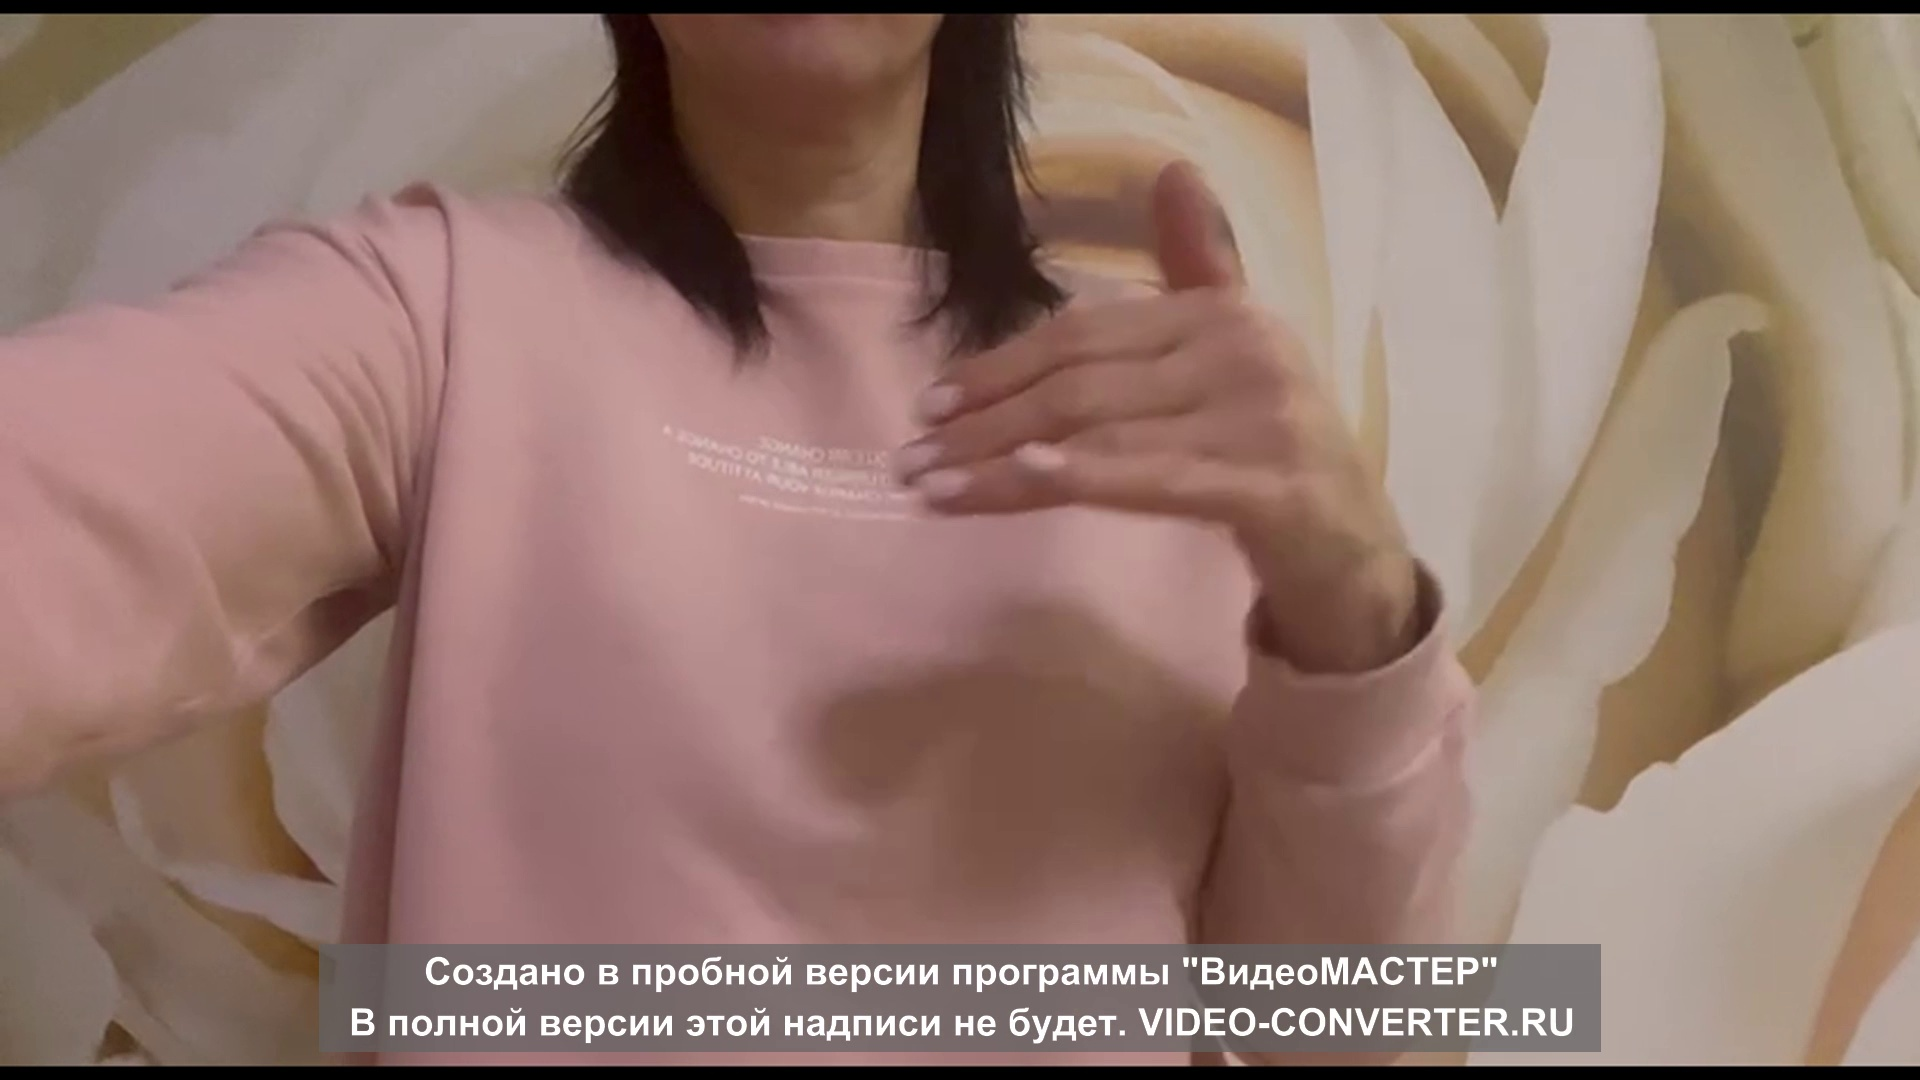Кисть: (893, 157, 1371, 578)
